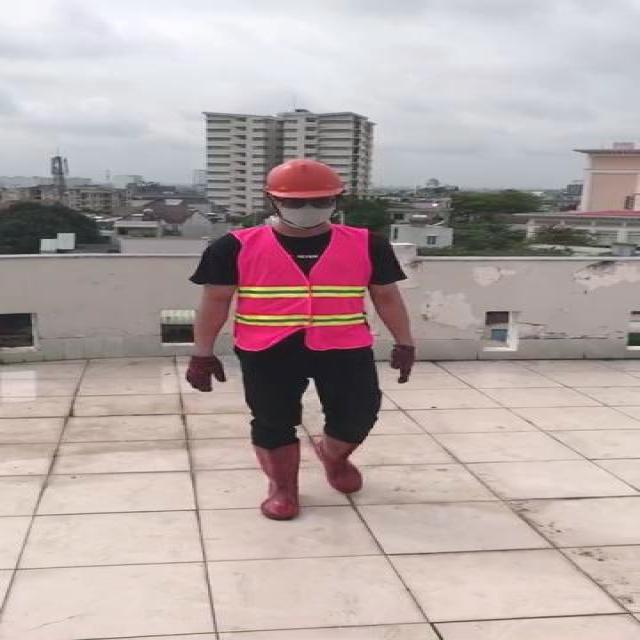boots: (251, 443, 302, 519), (315, 432, 368, 493)
face_mask: (276, 190, 340, 231)
glasses: (274, 194, 338, 212)
hand_glove: (183, 355, 226, 393), (390, 345, 414, 385)
head_helmet: (258, 158, 348, 198)
person: (182, 157, 422, 522)
vest: (231, 227, 375, 353)
